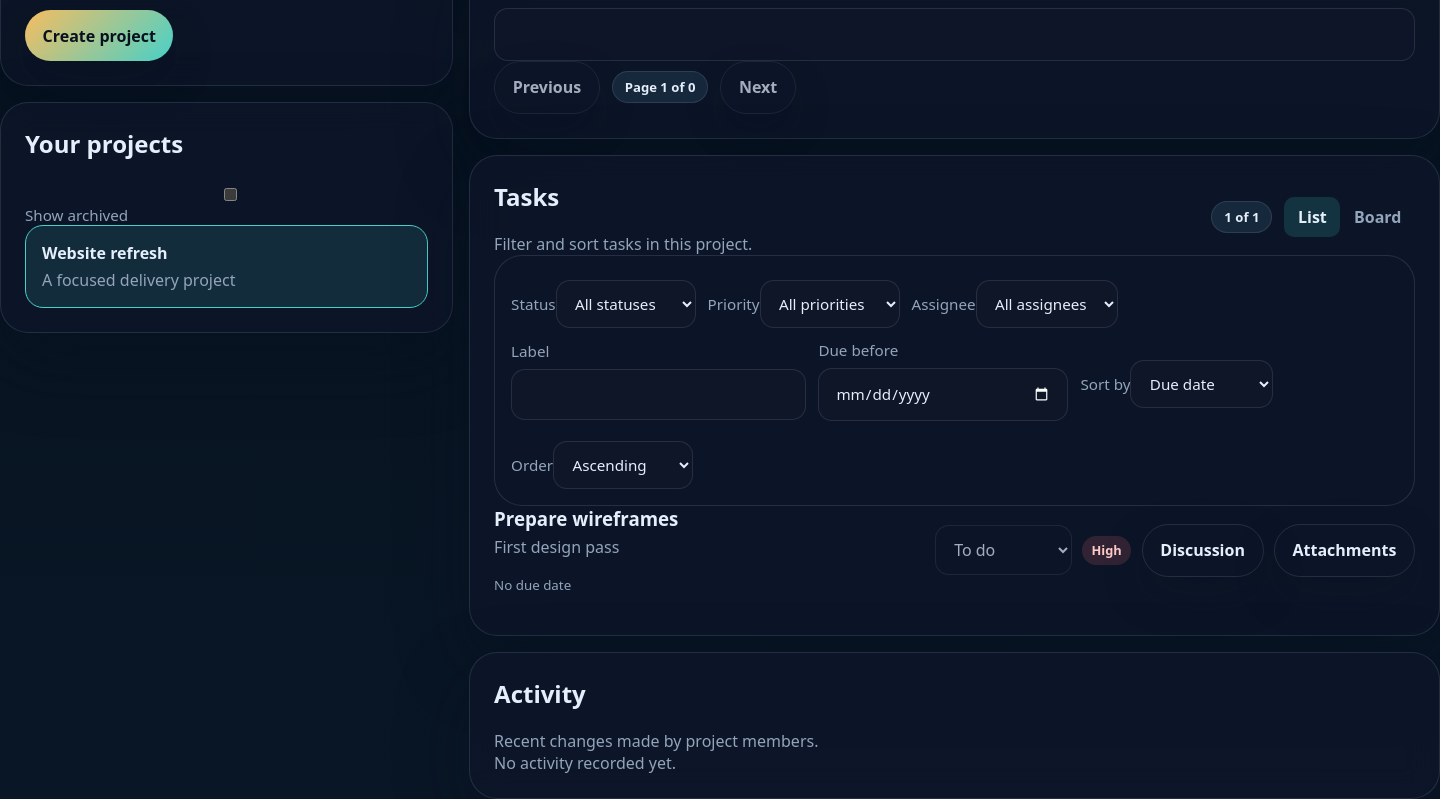
Test: Projects page › lets viewers download attachments but hides upload and delete controls
(page scrolled)
Click the button "Attachments" at (1344, 550), box 1274,524 -> 1415,577
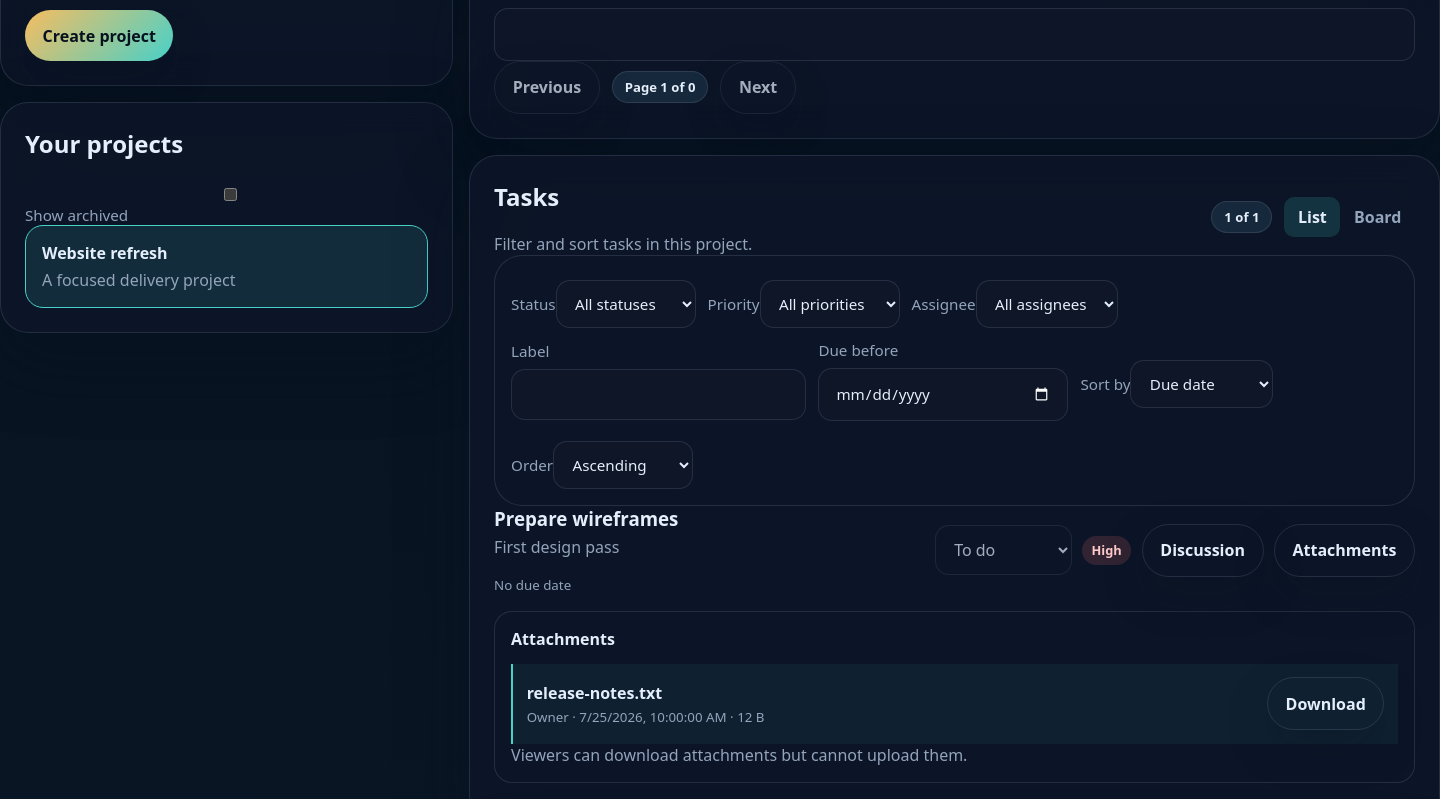
Expected: the text "release-notes.txt" is shown, 527,682 -> 662,704
Expected: the button "Download" is shown, 1267,678 -> 1384,730
